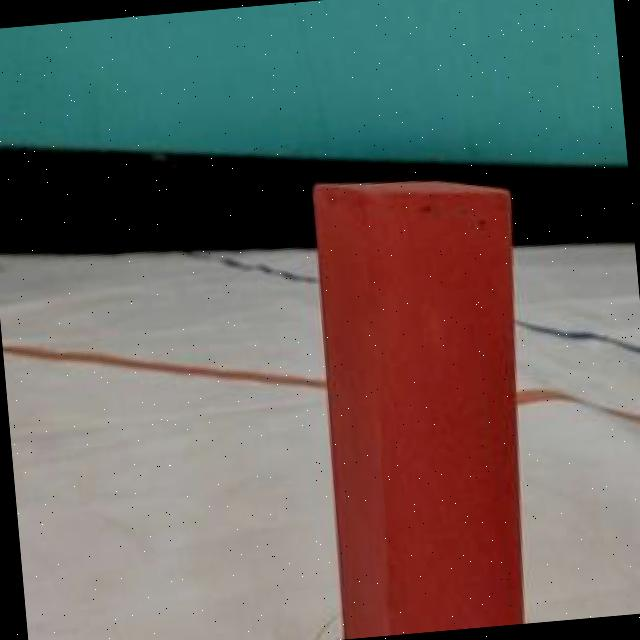redbox: (304, 164, 548, 638)
